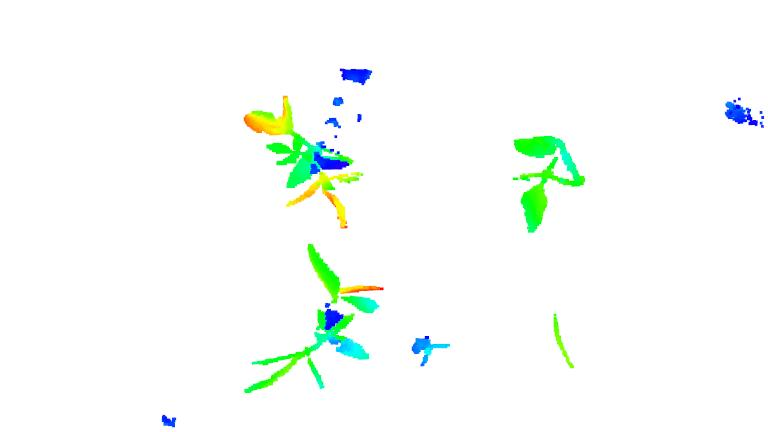mungbean: (237, 240, 388, 401), (245, 95, 357, 228), (505, 131, 579, 241)
